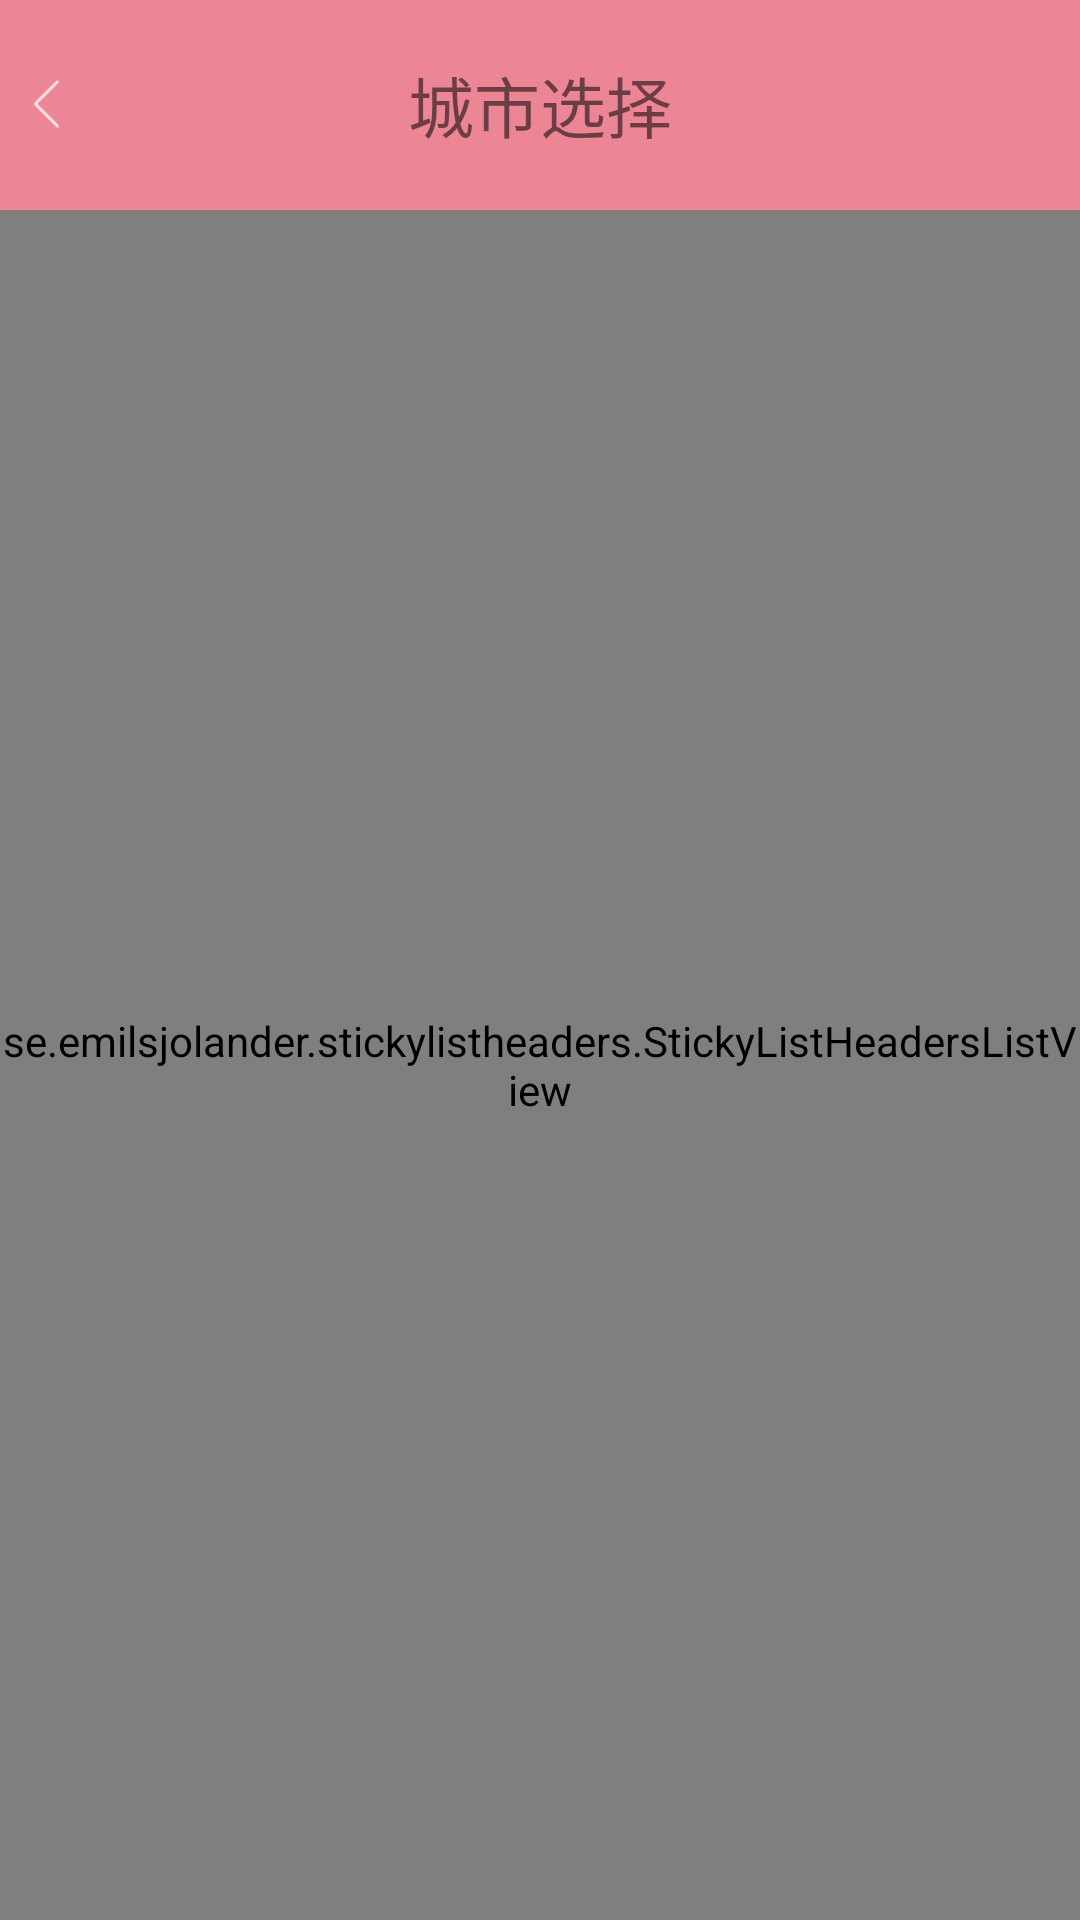

Screen size 1080w x 1920h. Icon name, then its center in pixels as (x=x, y=y):
back: (x=46, y=104)
